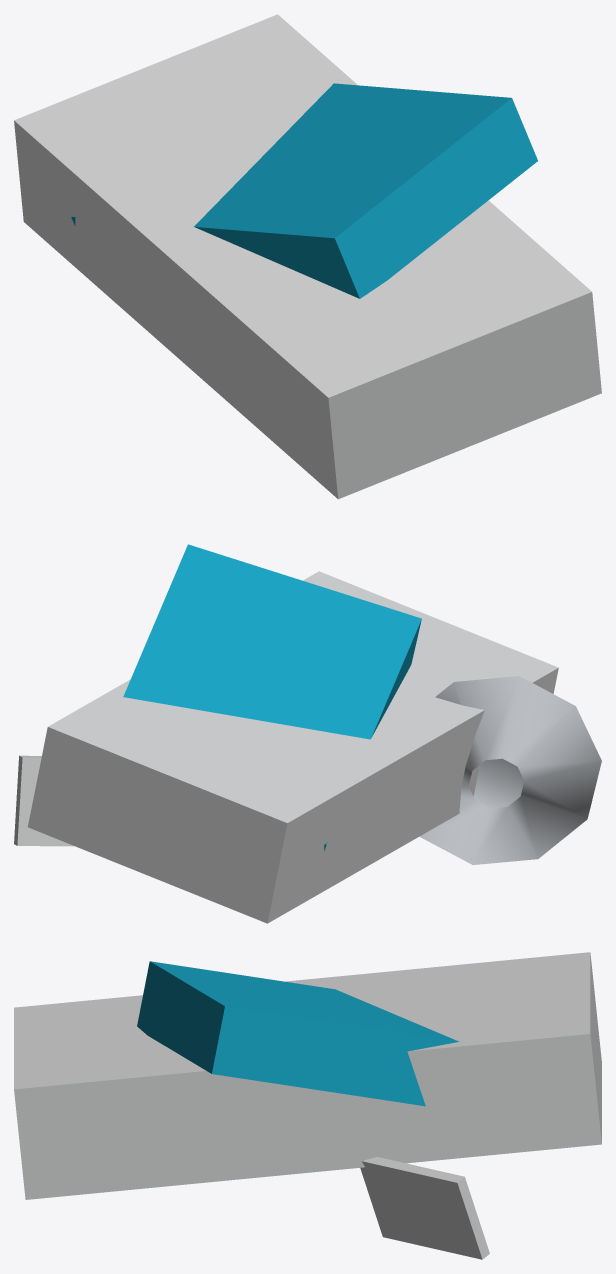
The model's file is news-van-wreck.glb.
The picture shows the model from 3 angles, top to bottom: view 1: azimuth 30°, elevation 25°; view 2: azimuth 150°, elevation 25°; view 3: azimuth 270°, elevation 25°; orthographic projection. The views are drawn at different scales.
Visible parts, largest first — view 1: Root; view 2: Root; view 3: Root.
Boxes of the visible parts, x1,y1,x2,y2 form: Root: [14, 14, 601, 499]; Root: [14, 544, 601, 923]; Root: [14, 952, 601, 1259].
Bounding box in the file's own units: 4.22 × 2.74 × 5.07.
